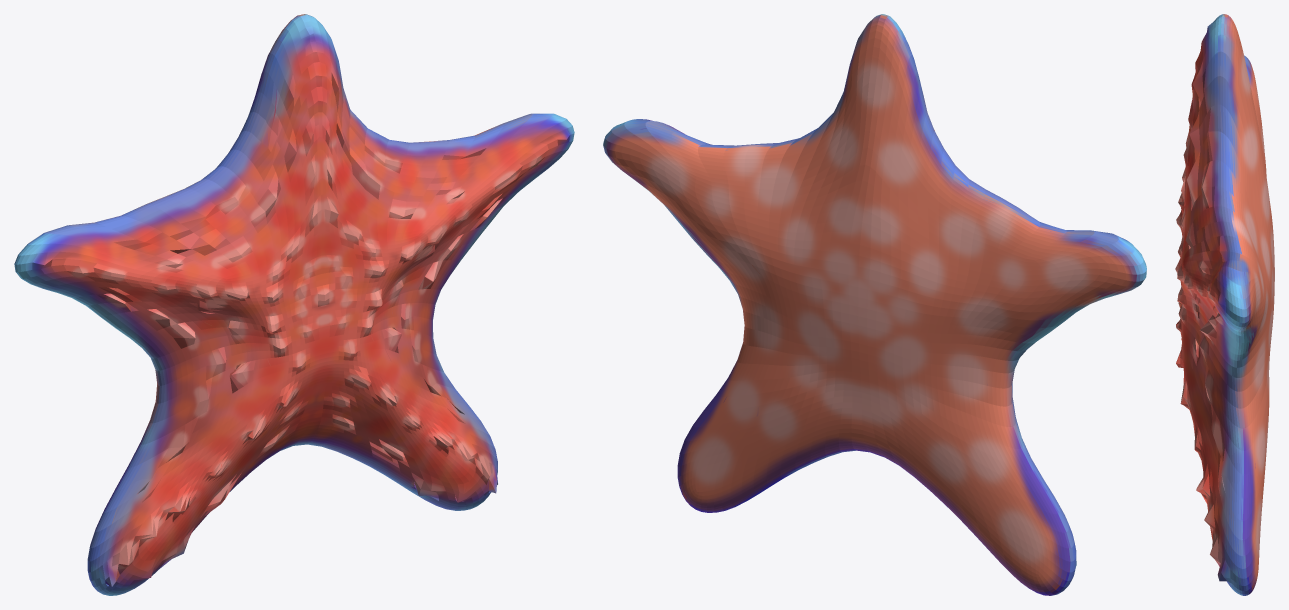
The model's file is starfish.glb.
The picture shows the model from 3 angles, left to right: view 1: azimuth 30°, elevation 25°; view 2: azimuth 150°, elevation 25°; view 3: azimuth 270°, elevation 25°; orthographic projection. The views are drawn at different scales.
Visible parts, largest first — view 1: Cube; view 2: Cube; view 3: Cube.
Part boxes in pixels (box(x1,y1,x2,y2)): Cube: box(14, 14, 574, 595); Cube: box(603, 14, 1146, 595); Cube: box(1175, 14, 1274, 595).
Size of the model in its own units: 3 by 2.8 by 0.5061.
1 material, 1 textured.
